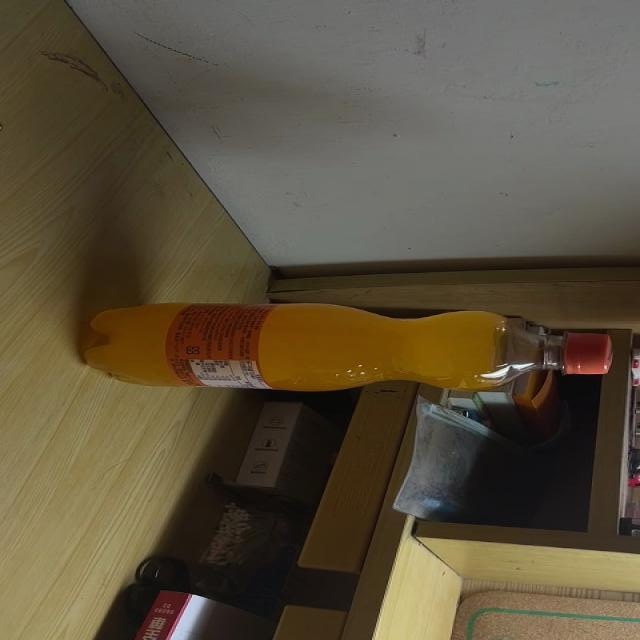Fanta: (80, 304, 611, 393)
